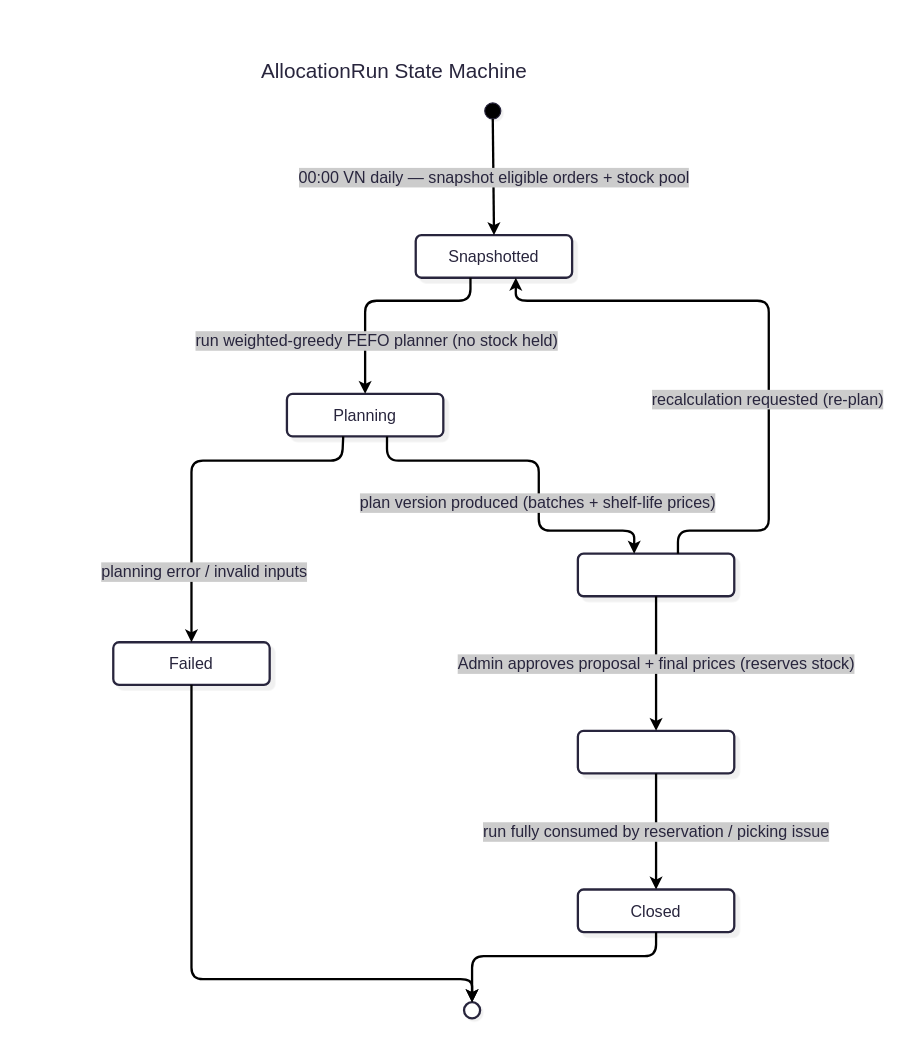
Image size: 903x1041. Some labels were removed from this diagram. The shapes that lost their labels are listed below. From the top down, each one's centre as x and y in pixels, then its label:
At pixel 657 576: "AwaitingApproval".
At pixel 657 754: "Approved".
